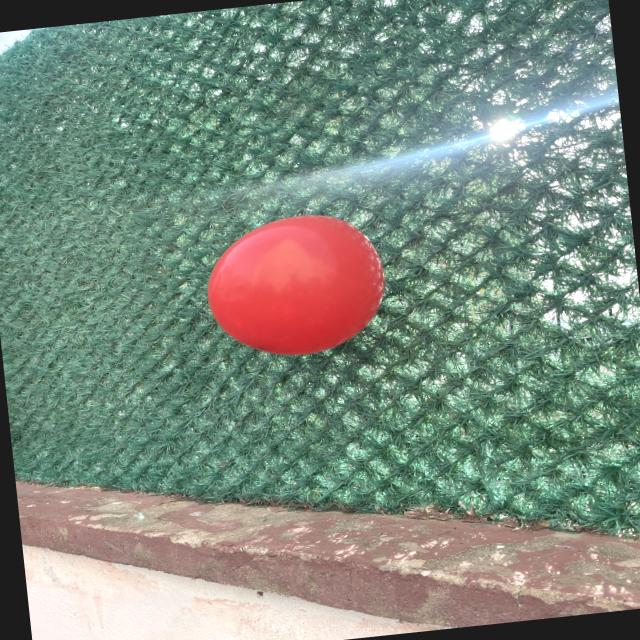balloon: (207, 215, 384, 354)
